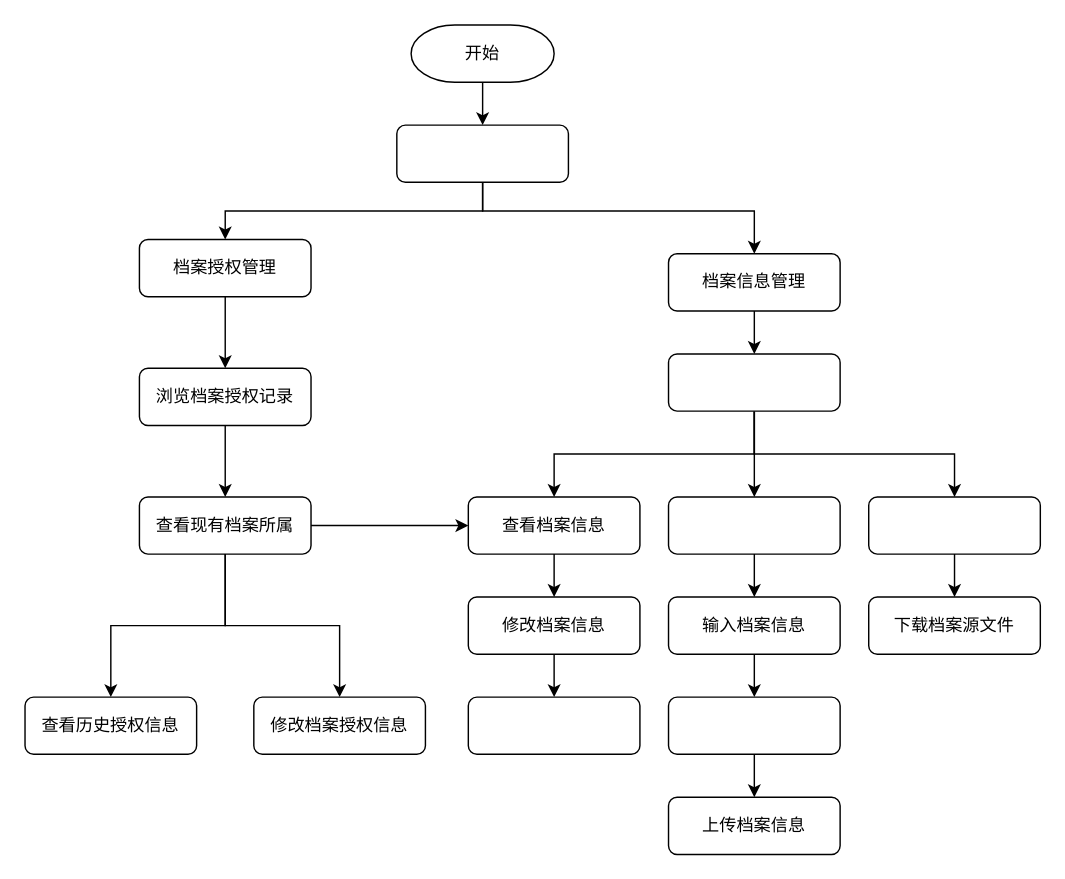
Some shapes in this 1065 by 879 pixel diagram are drawn without their labels. The shapes that lost their labels are listed below. From the top down, each one's box as (x1, y1, x2, y2) in pixels, then its label:
(395, 124, 568, 182): 选择操作类型
(667, 352, 840, 411): 浏览所有档案记录
(667, 495, 840, 554): 添加档案
(867, 495, 1040, 554): 查看档案历史版本
(467, 696, 640, 754): 更新档案信息
(667, 696, 840, 754): 上传文件
